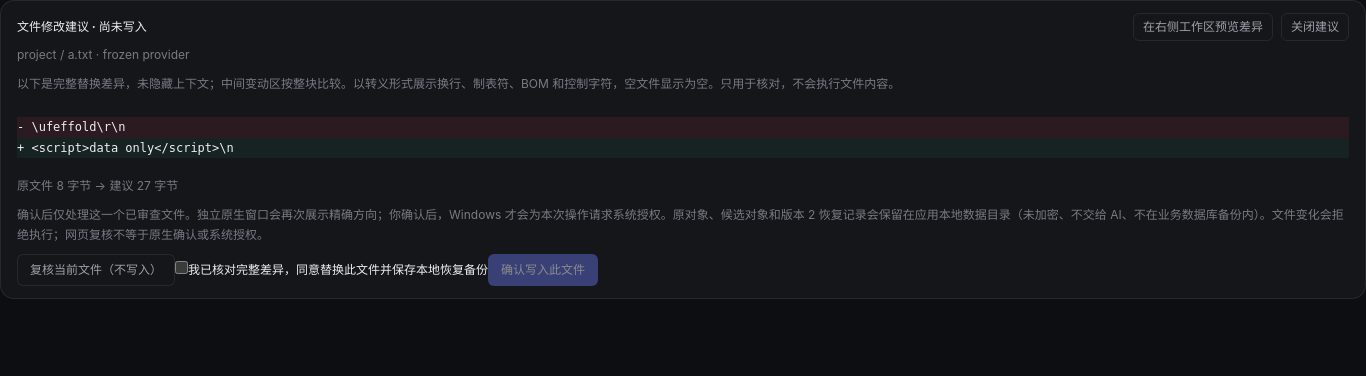
Test: manual confirmation writes exactly once and displays the local backup receipt
Click the checkbox labelled "我已核对完整差异，同意替换此文件并保存本地恢复备份" at x=182, y=267, box [175,261,188,274]
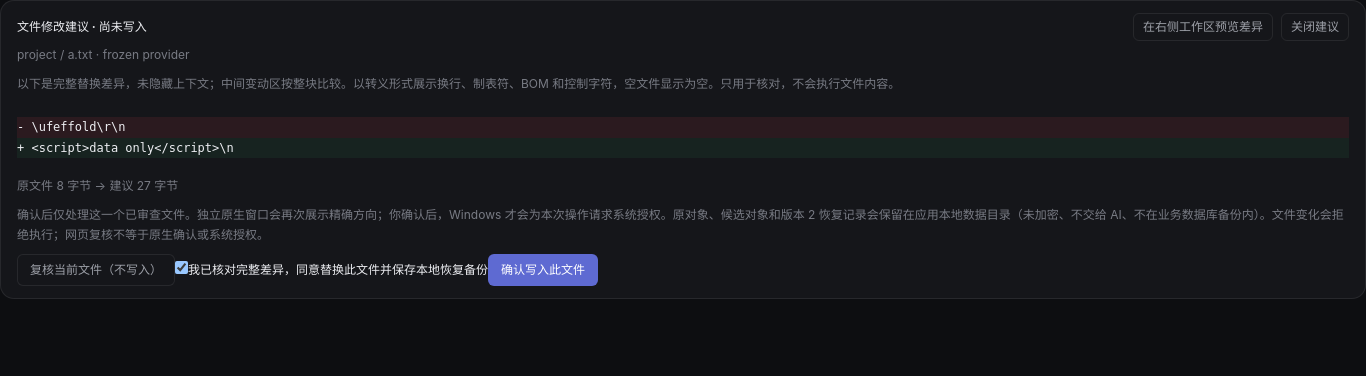
Click the button "确认写入此文件" at x=543, y=270, box [488,254,598,286]
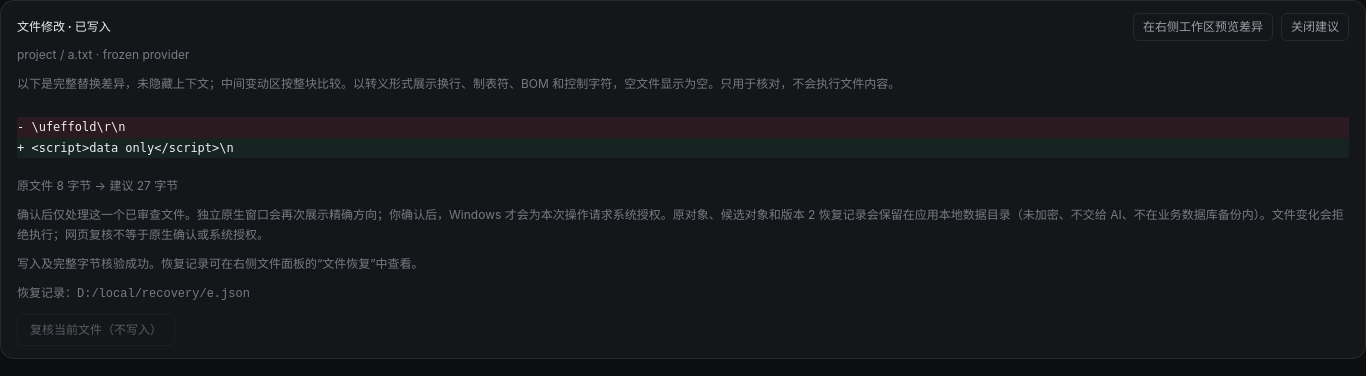
Expected: the text "写入及完整字节核验成功。恢复记录可在右侧文件面板的“文件恢复”中查看。" is shown, [17,256,424,271]
Expected: the button "确认写入此文件" is gone
